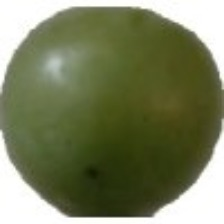grapes: (45, 47, 189, 191)
